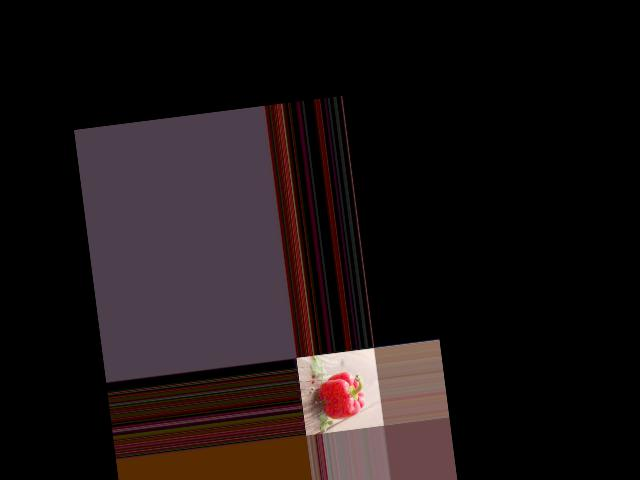bell_pepper: (314, 367, 371, 424)
